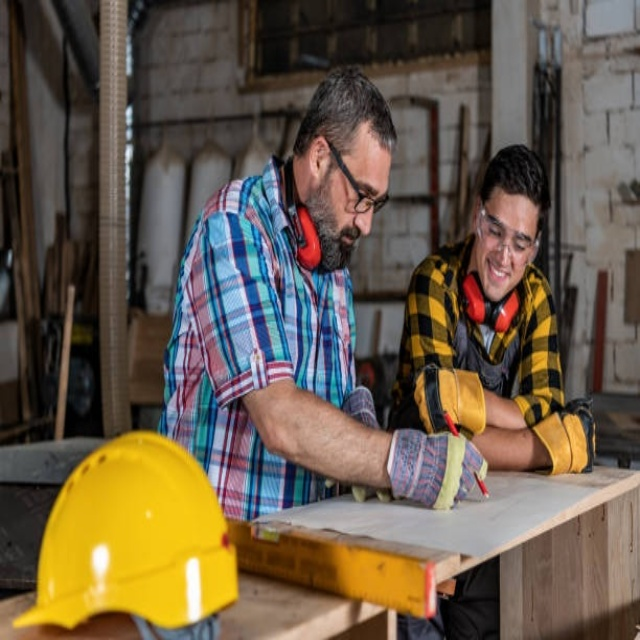Gafas: (325, 143, 391, 216), (476, 199, 538, 253)
Guantes: (386, 425, 487, 508), (531, 395, 601, 477), (409, 361, 488, 428)
Sin_mascara: (482, 253, 515, 301), (328, 226, 362, 268)
